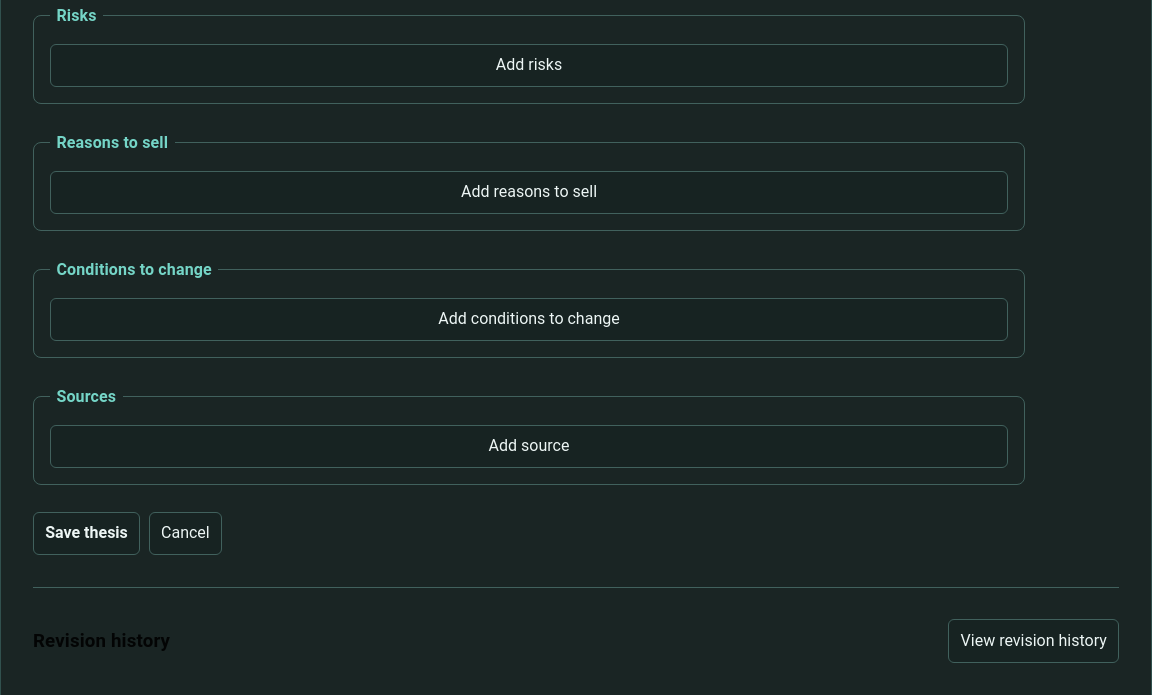
Test case: ThesisEditor response contracts › uses human-readable history headings rather than internal DOM IDs
(page scrolled)
Click the button "View revision history".
click(1034, 641)  # box [948, 619, 1119, 663]
(page scrolled)
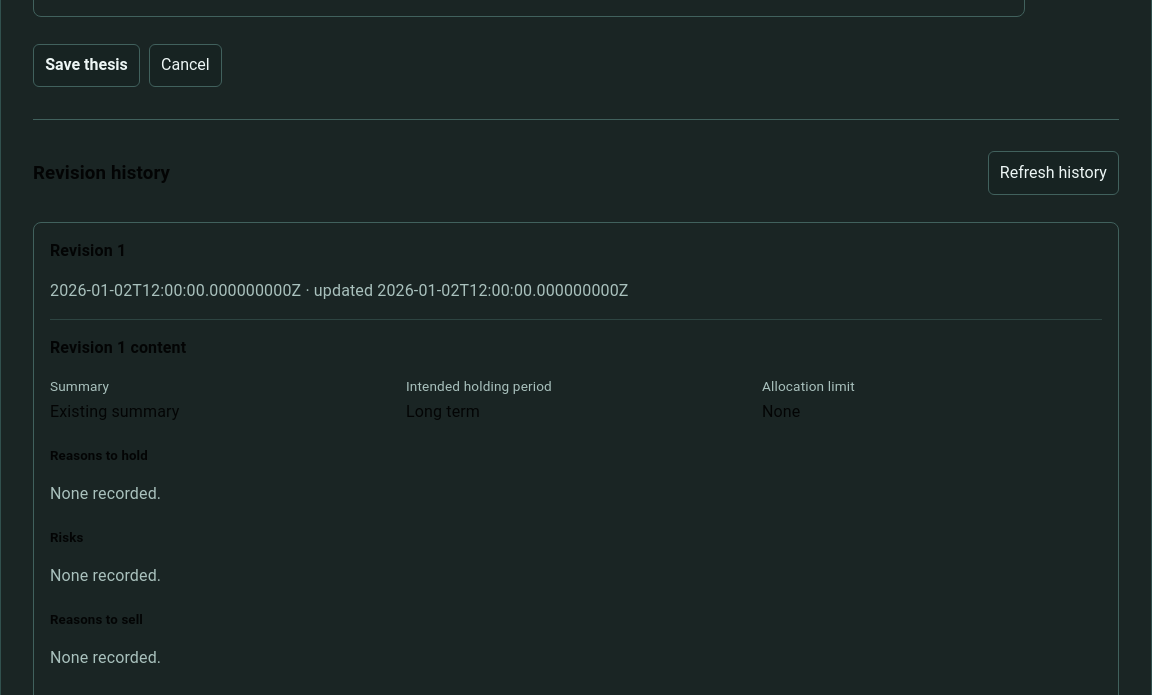
Expected: the heading "Revision 1" is shown, [50, 241, 126, 260]
Expected: the heading "Revision 1 content" is shown, [50, 338, 186, 357]
